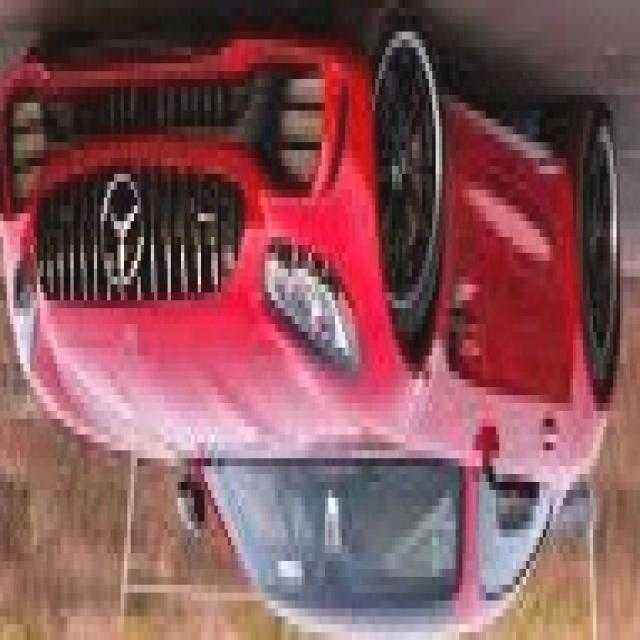red: (6, 38, 640, 628)
